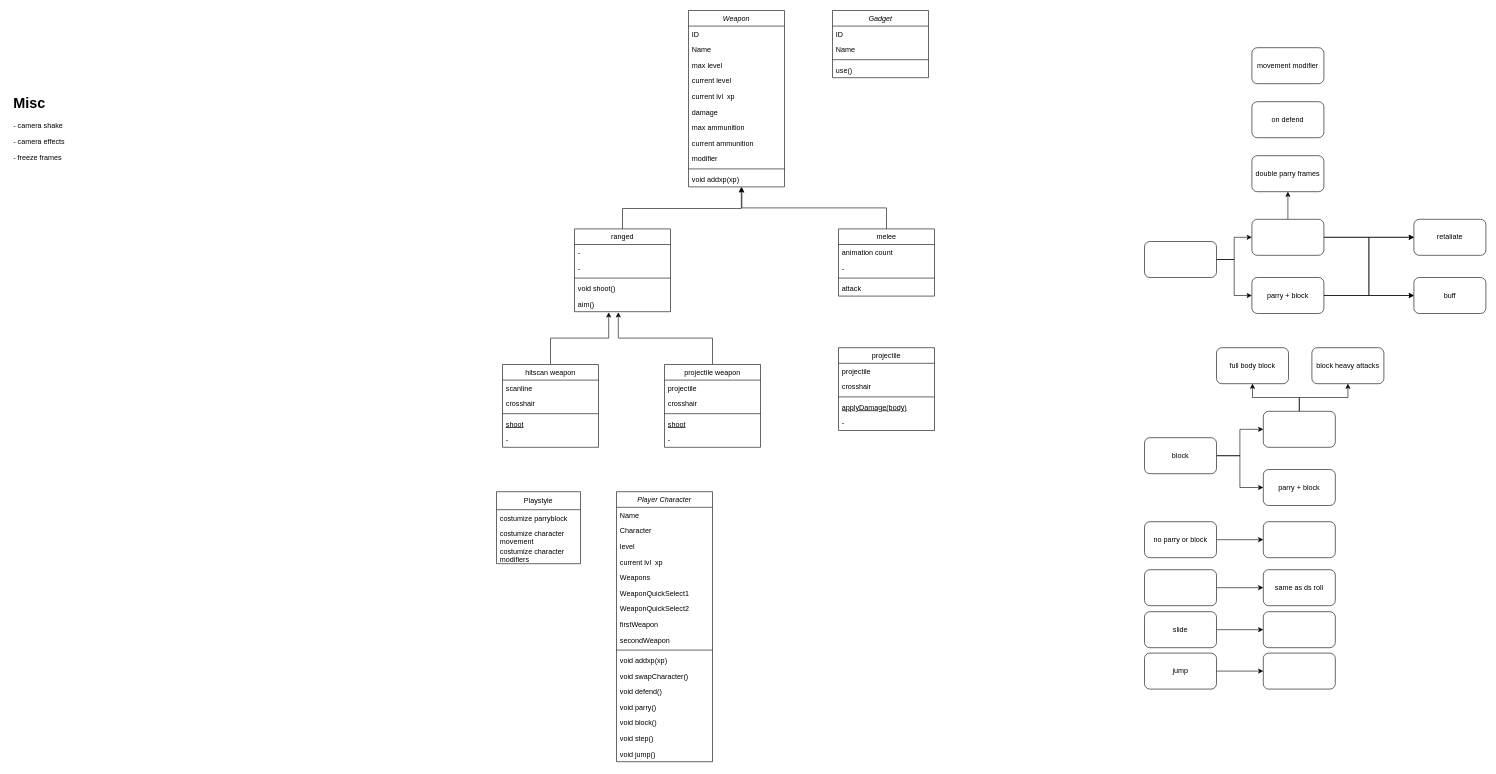
This 1496x774 diagram has some shape labels left out. Here are the shapes that lost their labels. From the top down, the centre of each, then its label:
At (x=1287, y=237): "parry only".
At (x=1180, y=259): "parry".
At (x=1299, y=429): "block only".
At (x=1299, y=539): "more step and jump I frames".
At (x=1180, y=587): "step".
At (x=1299, y=629): "crash slide".
At (x=1299, y=670): "ratchet or crash".
